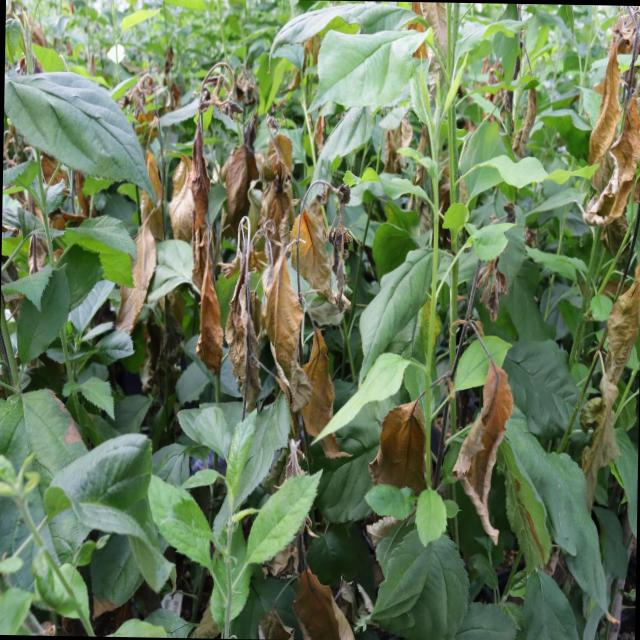-FireBlight-: (108, 39, 365, 467), (342, 354, 522, 552), (577, 256, 640, 509), (574, 5, 640, 234), (266, 506, 352, 640)
